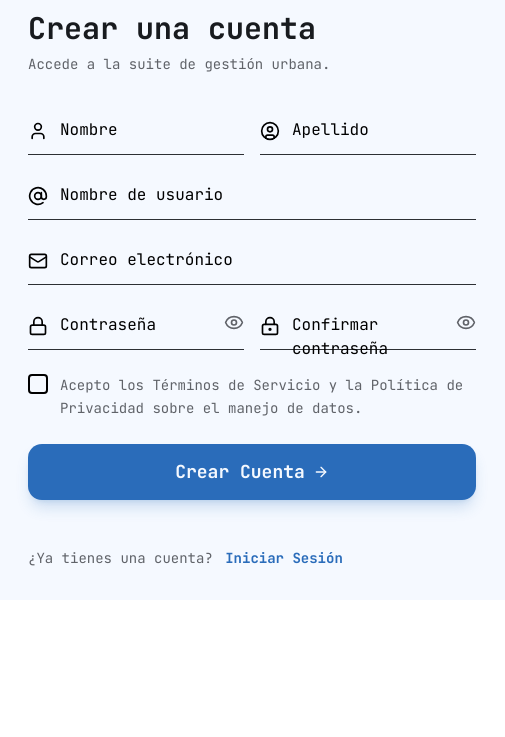
Scenario: RegisterForm › muestra los requisitos de password cuando el campo está enfocado
The width and height of the screenshot is (505, 737).
Focus the password field labelled "Contraseña" at (136, 326), box [28,301,244,350]
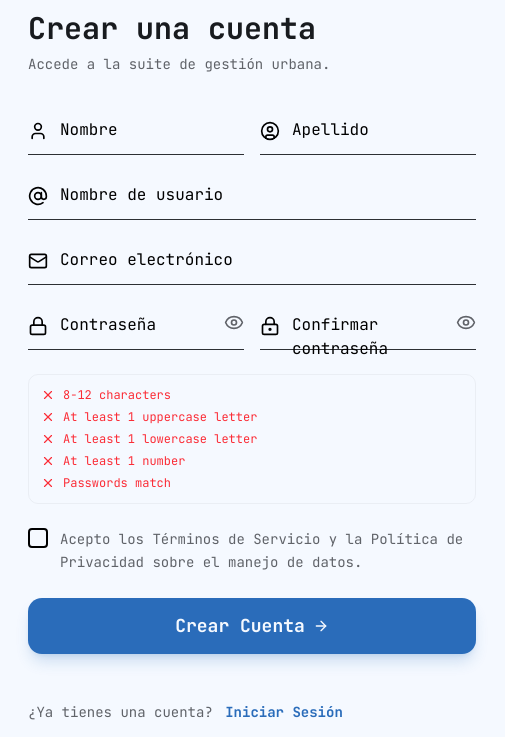
Check: the text "8-12 characters" is shown, box [63,387,171,403]
Check: the text "At least 1 uppercase letter" is shown, box [63,409,257,425]
Check: the text "At least 1 lowercase letter" is shown, box [63,431,257,447]
